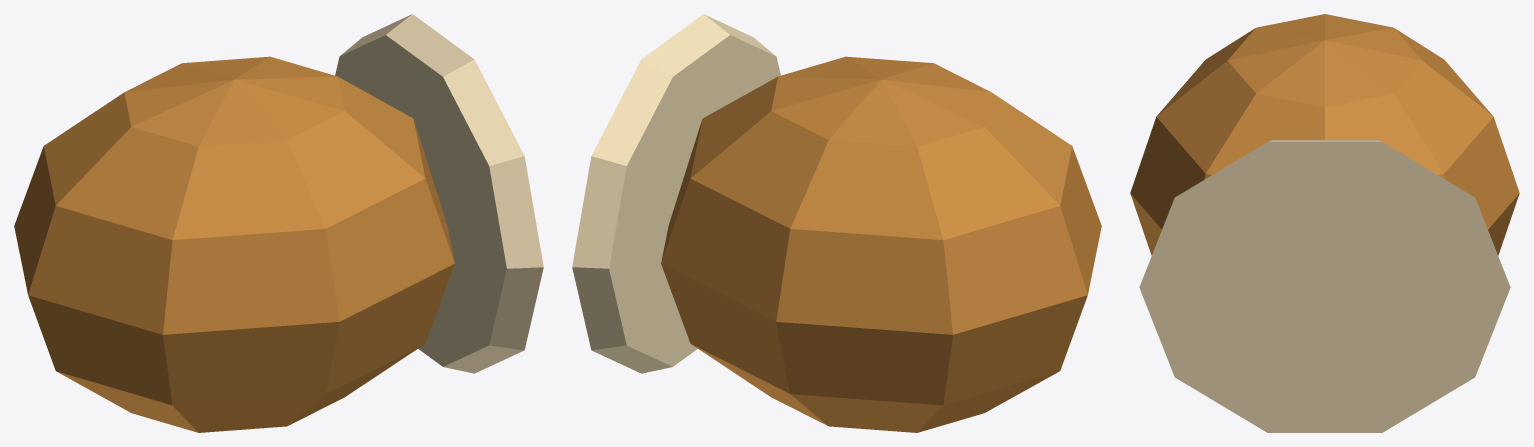
The model's file is bread_half.glb.
3 views of the same model, side by side, from view 1: azimuth 30°, elevation 25°; view 2: azimuth 150°, elevation 25°; view 3: azimuth 270°, elevation 25° (orthographic). The views are drawn at different scales.
Visible parts, largest first — view 1: loaf_crust, loaf_crumb; view 2: loaf_crust, loaf_crumb; view 3: loaf_crumb, loaf_crust.
Boxes of the visible parts, box(x1,y1,x2,y2) form: loaf_crust: box(14, 56, 454, 432); loaf_crumb: box(335, 14, 543, 373); loaf_crust: box(661, 56, 1101, 432); loaf_crumb: box(572, 14, 780, 373); loaf_crumb: box(1139, 140, 1510, 432); loaf_crust: box(1130, 14, 1519, 255).
Bounding box in the file's own units: 0.171 × 0.13 × 0.15.
